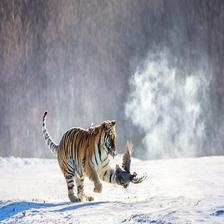tiger: (41, 113, 122, 205)
